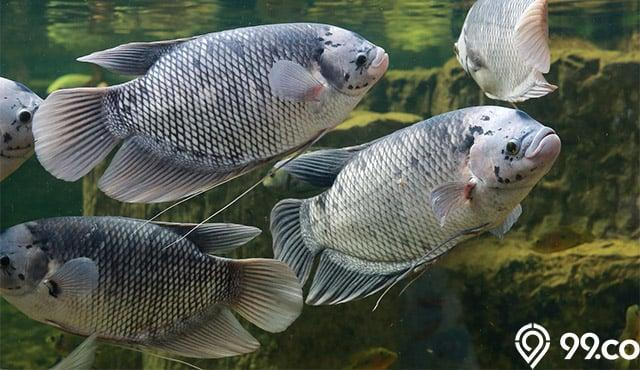Mulut: (506, 106, 582, 180), (357, 39, 411, 89)
Sirip Anal: (91, 130, 265, 212), (298, 234, 428, 316), (138, 306, 266, 364)
Sirip Dada: (260, 52, 326, 128), (34, 247, 104, 311), (420, 168, 484, 238)
Sirip Ekor: (26, 80, 136, 190), (222, 240, 308, 344), (258, 190, 322, 296), (504, 0, 566, 80)
Sirip Punggung: (67, 26, 205, 90), (264, 135, 404, 195), (148, 206, 270, 259)
